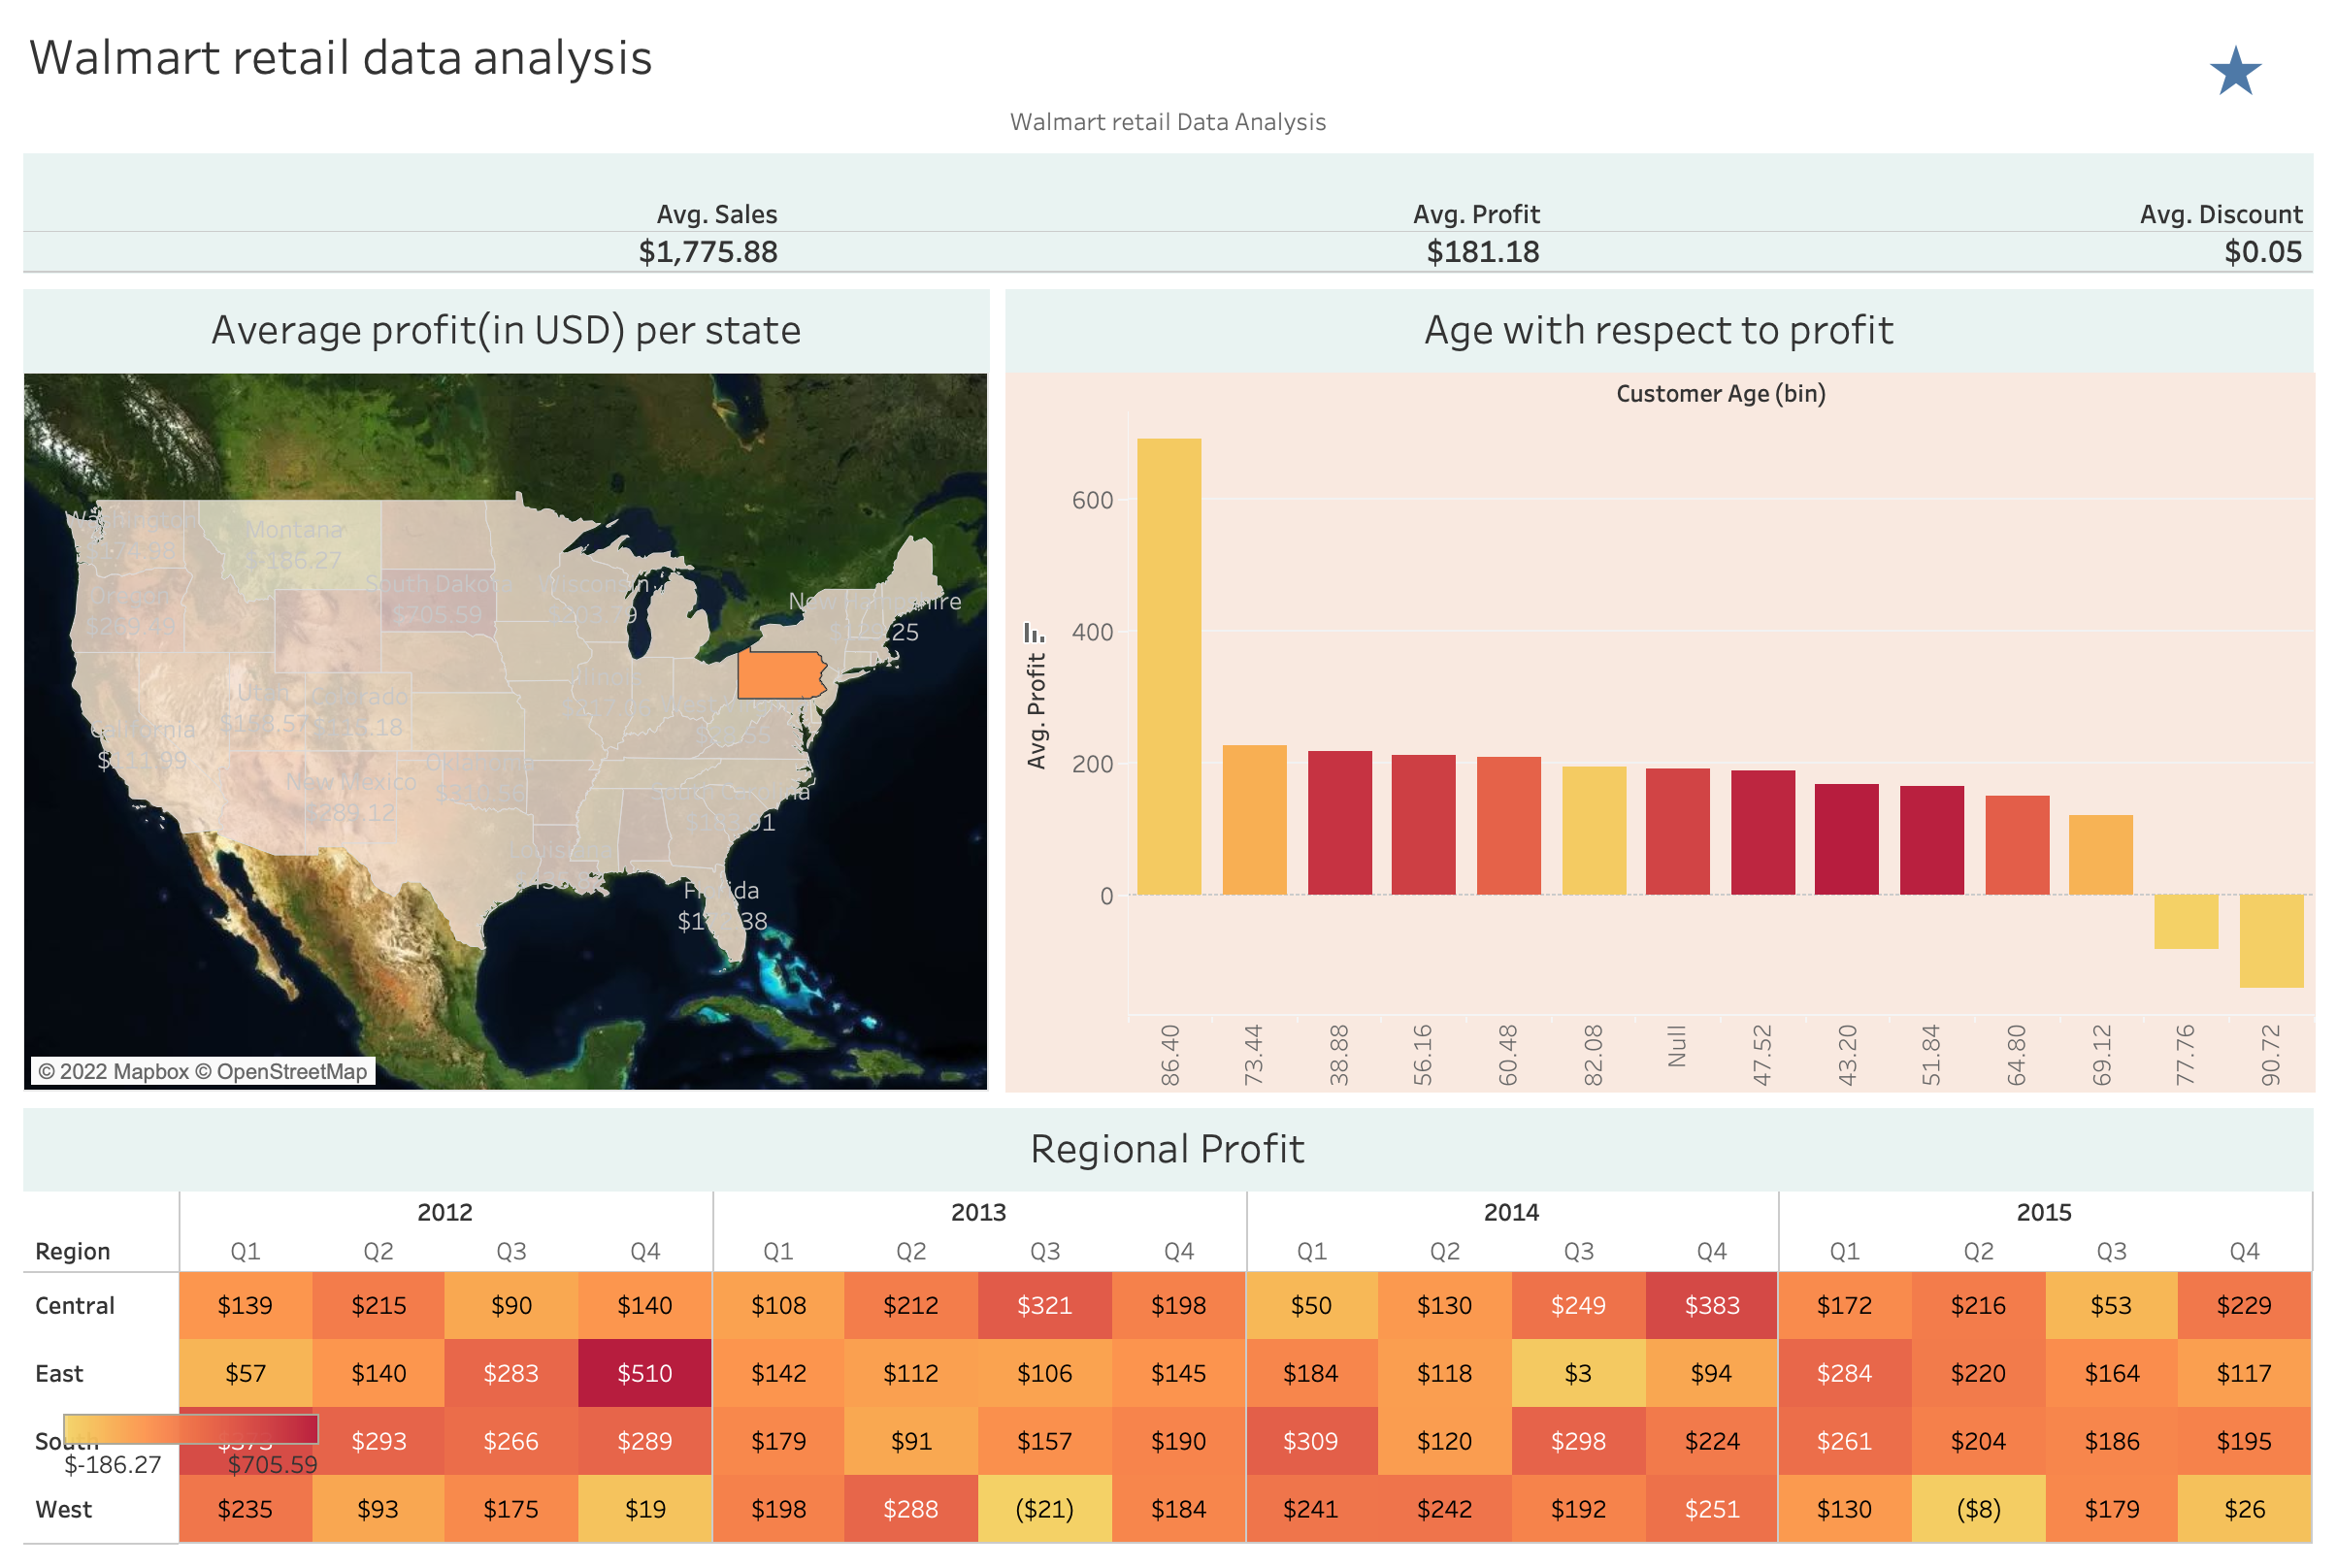

The dashboard page shown, as its layout file describes it:
{"tool":"tableau","page":{"name":"Dashboard 1","canvas":[1000,1000],"units":"permille","ordinal":0},"visuals":[{"type":"title","box":[6.6,9.9,986.7,52]},{"type":"worksheet","title":"dataset information","mark":"Shape","box":[939.4,22.3,34.9,43.3]},{"type":"text","box":[6.6,61.9,986.7,30.9]},{"type":"worksheet","title":"Average Measures","mark":"Automatic","box":[6.6,92.8,986.7,86.6]},{"type":"worksheet","title":"State vs profit","mark":"Multipolygon","box":[6.6,179.5,420.3,522.3]},{"type":"worksheet","title":"Age vs profit","mark":"Automatic","rows":["Profit"],"cols":["Customer Age (bin)"],"box":[426.9,179.5,566.4,522.3]},{"type":"worksheet","title":"Sheet 5","mark":"Square","rows":["Region"],"cols":["Order Date","Order Date"],"box":[6.6,701.7,986.7,288.4]},{"type":"legend","title":"State vs profit","param":"[federated.12fzjkf0e19dc7129wlf806rzyb5].[avg:Profit:qk]","box":[24.1,897.3,116.3,48.3]}]}

Visuals, with their boxes on the dashboard's canvas, which has no fixed pixel size, in thousandths of its width and height (x1, y1, x2, y2). These are canvas units, not pixel positions in the 2337x1568 screenshot, which may show the page scaled, cropped or inside an application window:
title: 7, 10, 993, 62
"dataset information" worksheet (Shape marks): 939, 22, 974, 66
text: 7, 62, 993, 93
"Average Measures" worksheet: 7, 93, 993, 179
"State vs profit" worksheet (Multipolygon marks): 7, 180, 427, 702
"Age vs profit" worksheet: 427, 180, 993, 702
"Sheet 5" worksheet (Square marks): 7, 702, 993, 990
"State vs profit" legend: 24, 897, 140, 946
